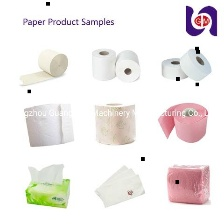tissue: (18, 96, 78, 149), (17, 157, 74, 212), (89, 159, 149, 210), (151, 96, 212, 146), (14, 43, 72, 90), (89, 95, 140, 148), (162, 158, 214, 208), (176, 45, 214, 85), (110, 46, 143, 85), (88, 45, 118, 83), (156, 55, 192, 82)
